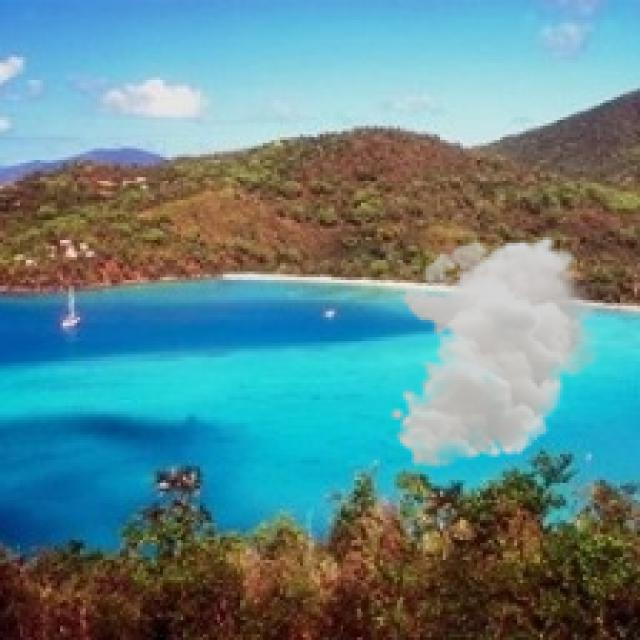smoke: (388, 234, 606, 469)
